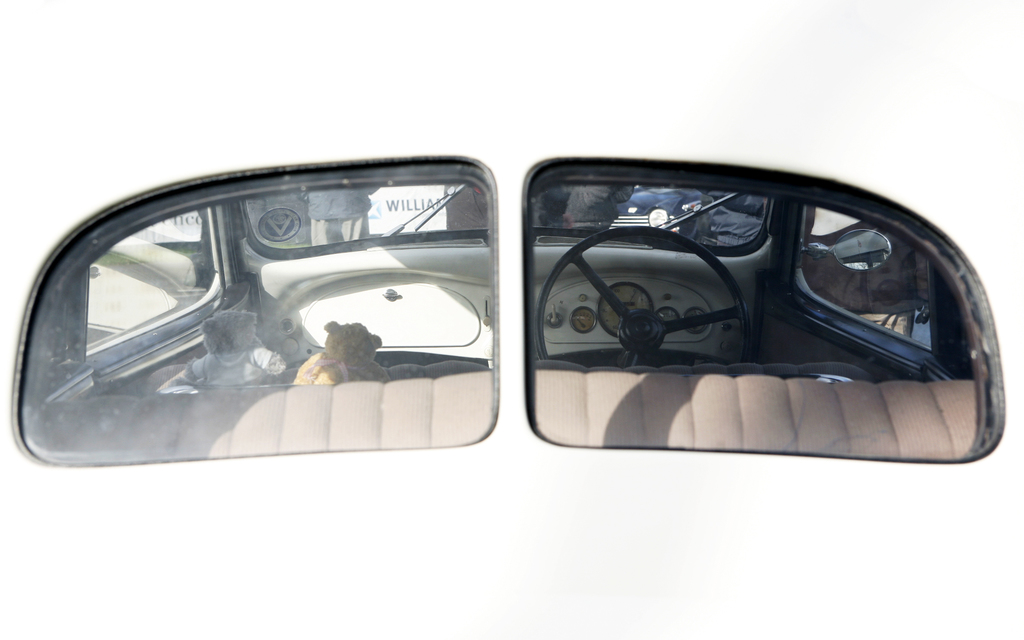person: (289, 319, 491, 385)
